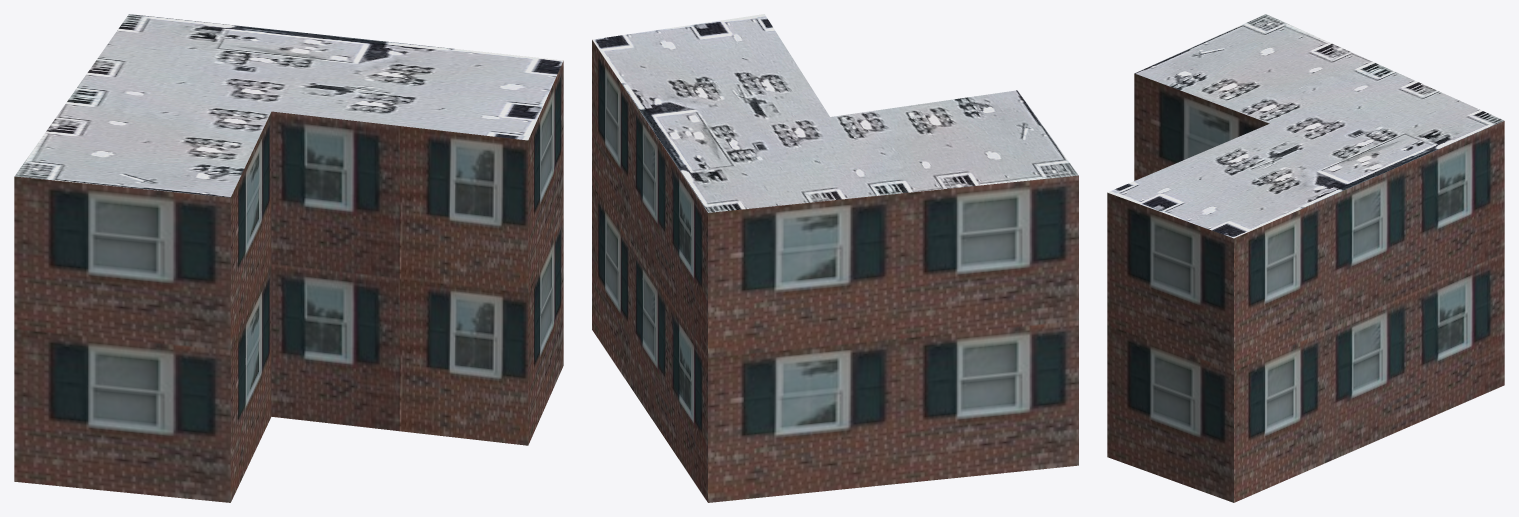
The model's file is ResTex__2305.fbx.
3 views of the same model, side by side, from view 1: azimuth 30°, elevation 25°; view 2: azimuth 150°, elevation 25°; view 3: azimuth 270°, elevation 25° (orthographic). The views are drawn at different scales.
Parts seen in each view (by area): view 1: CityEngineMaterial_14_m, CityEngineMaterial_4_m; view 2: CityEngineMaterial_14_m, CityEngineMaterial_4_m; view 3: CityEngineMaterial_14_m, CityEngineMaterial_4_m.
Boxes of the visible parts, box(x1,y1,x2,y2) form: CityEngineMaterial_14_m: box(14, 61, 563, 502); CityEngineMaterial_4_m: box(14, 14, 563, 197); CityEngineMaterial_14_m: box(592, 40, 1078, 502); CityEngineMaterial_4_m: box(592, 14, 1078, 212); CityEngineMaterial_14_m: box(1107, 73, 1504, 502); CityEngineMaterial_4_m: box(1107, 14, 1504, 238).
Bounding box in the file's own units: 10.92 × 6 × 8.17.
Materials: 2 (2 with a texture image).
